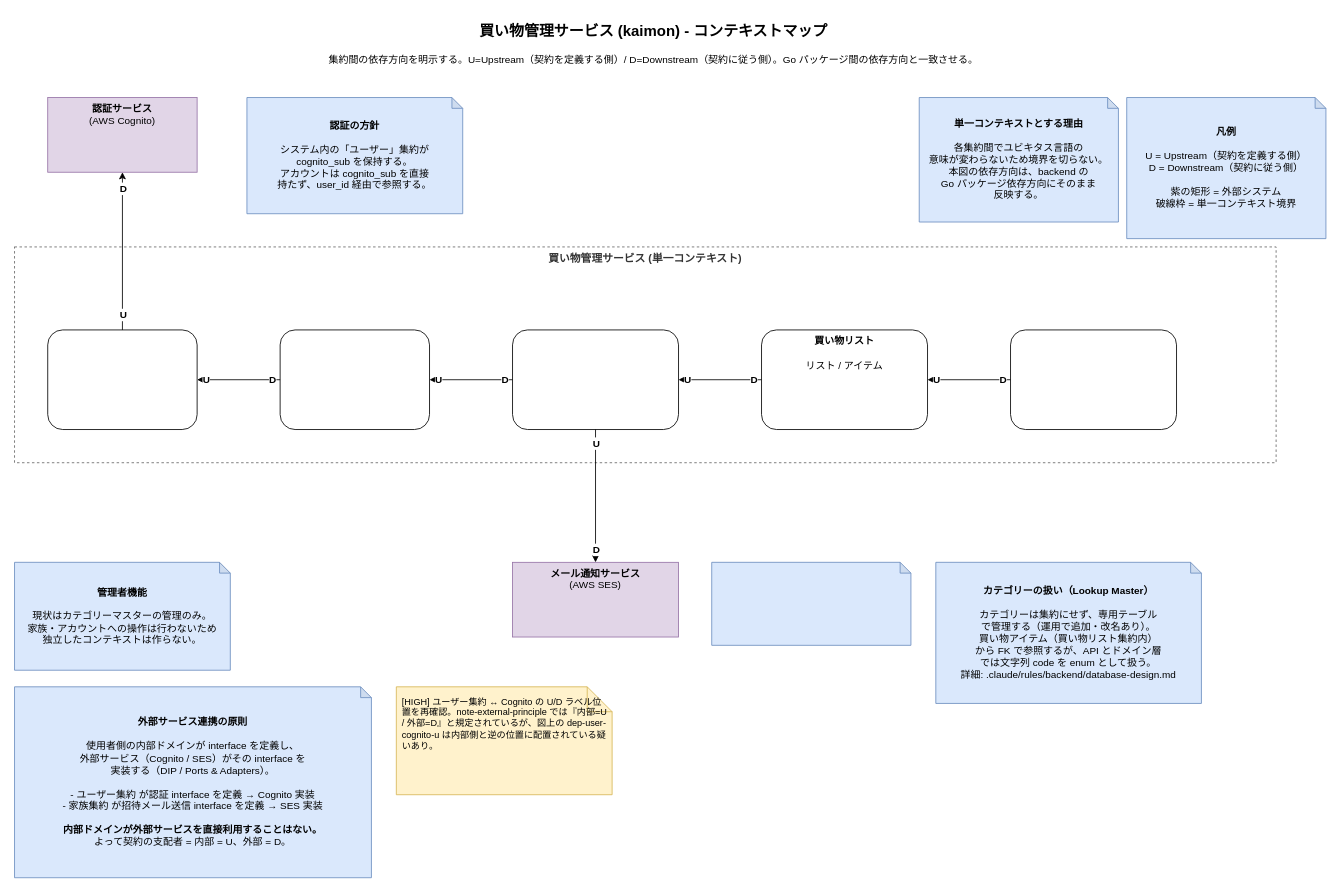
The diagram is 1340 pixels wide and 892 high, and some of its shapes have lost their labels. Each missing label, with the box of its shape:
アカウント プロフィール情報: (279, 329, 430, 430)
ユーザー cognito_sub を保持: (47, 329, 197, 430)
家族 家族グループ / メンバー / 招待: (512, 329, 679, 430)
買い物セッション 買い物の実施単位: (1010, 329, 1177, 430)
通知の発火範囲 現状は家族招待メールのみ。 他集約からの利用は想定していない。: (711, 561, 911, 645)
